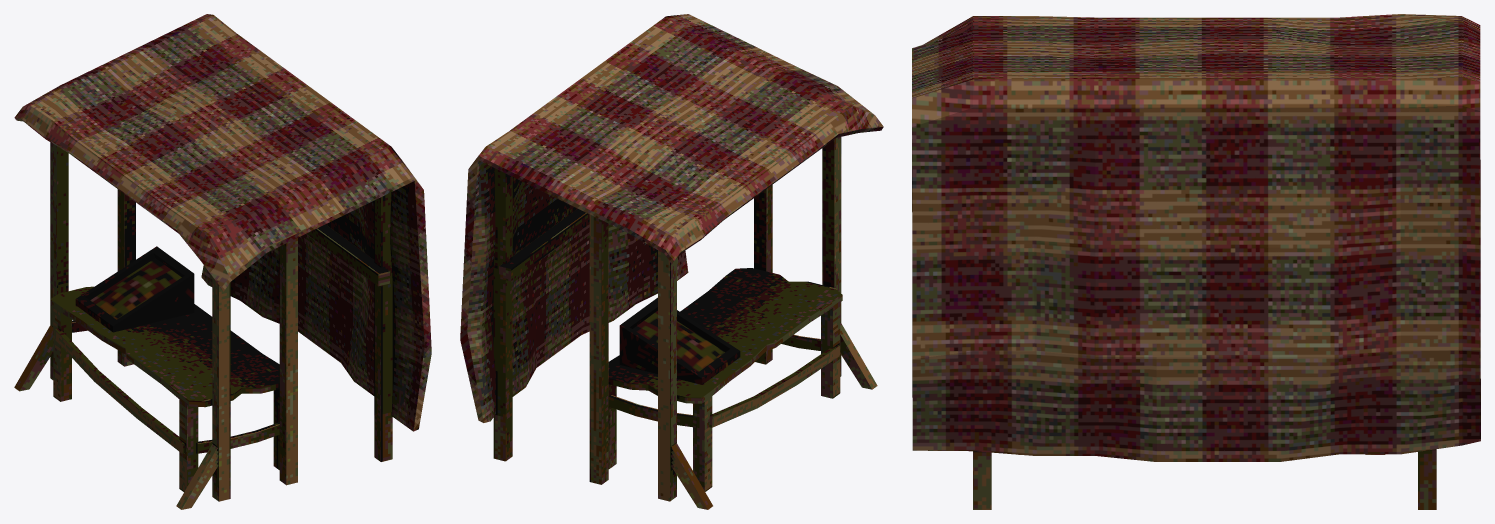
Rendered from market_stall_pixelated.glb.
The picture shows the model from 3 angles, left to right: view 1: azimuth 30°, elevation 25°; view 2: azimuth 150°, elevation 25°; view 3: azimuth 270°, elevation 25°; orthographic projection. The views are drawn at different scales.
Visible parts, largest first — view 1: lavka_Plane.013; view 2: lavka_Plane.013; view 3: lavka_Plane.013.
Part boxes in pixels (x1,y1,x2,y2): lavka_Plane.013: (14, 14, 431, 509); lavka_Plane.013: (460, 14, 883, 509); lavka_Plane.013: (912, 14, 1480, 509).
Bounding box in the file's own units: 2.47 × 3.19 × 3.8.
Materials: 1 (1 with a texture image).
